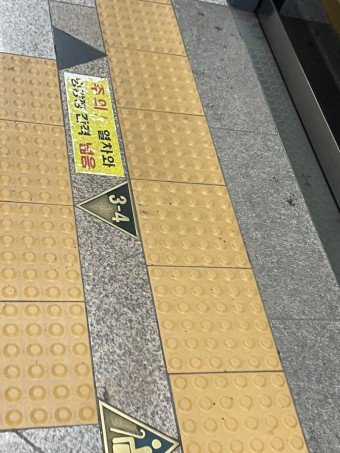warningBlock: (148, 265, 270, 369), (4, 304, 90, 421), (175, 377, 303, 453), (143, 180, 232, 267), (3, 202, 82, 295), (125, 113, 213, 178), (2, 126, 74, 197), (114, 52, 189, 115), (105, 1, 182, 53), (3, 53, 59, 124)
